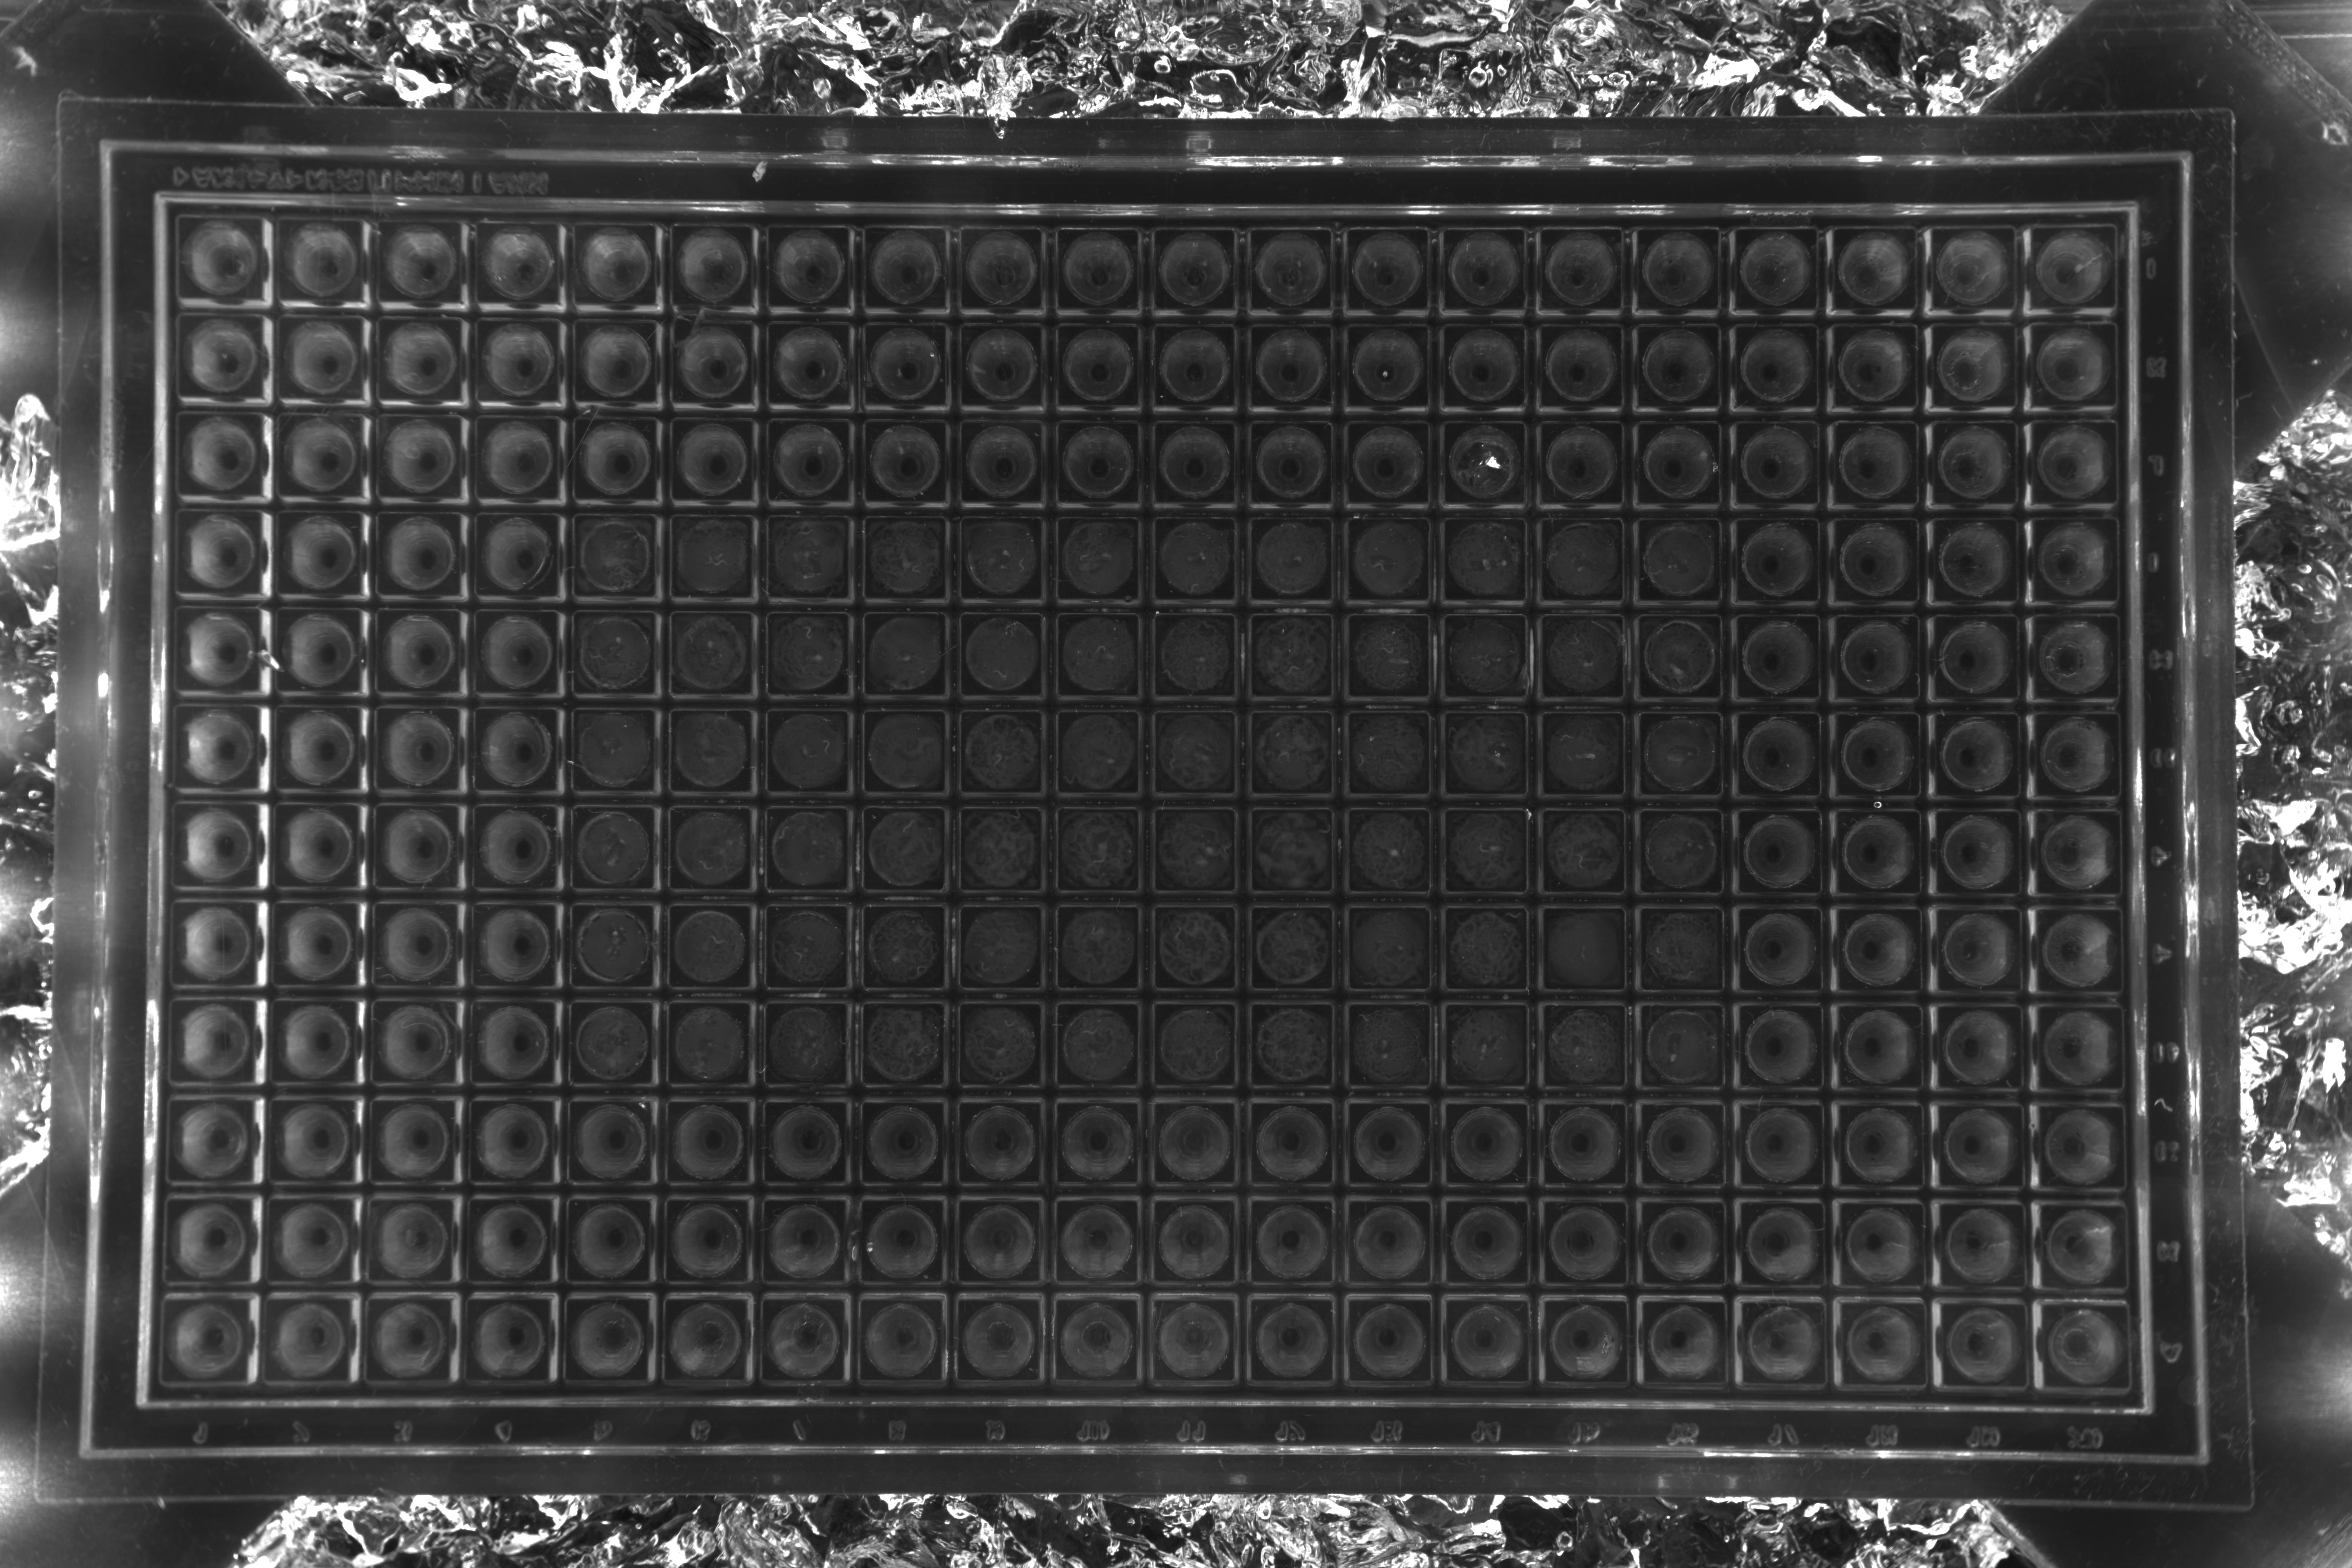WM_well: (203, 651, 292, 738), (789, 849, 877, 936), (789, 654, 877, 742), (789, 752, 877, 840), (882, 1239, 969, 1326), (884, 1141, 971, 1228), (887, 269, 975, 357), (982, 1045, 1069, 1132), (1080, 367, 1167, 455), (1176, 269, 1263, 357), (1274, 1339, 1361, 1426), (1368, 269, 1456, 357), (1370, 948, 1458, 1036), (1465, 367, 1552, 455), (1468, 1046, 1556, 1134), (1561, 269, 1648, 357), (1563, 464, 1650, 551), (1564, 656, 1652, 744), (1666, 1246, 1753, 1333), (1759, 464, 1846, 551), (1760, 560, 1848, 647), (1760, 658, 1848, 745), (2058, 758, 2145, 845), (2060, 856, 2147, 943), (2063, 1253, 2151, 1340)
